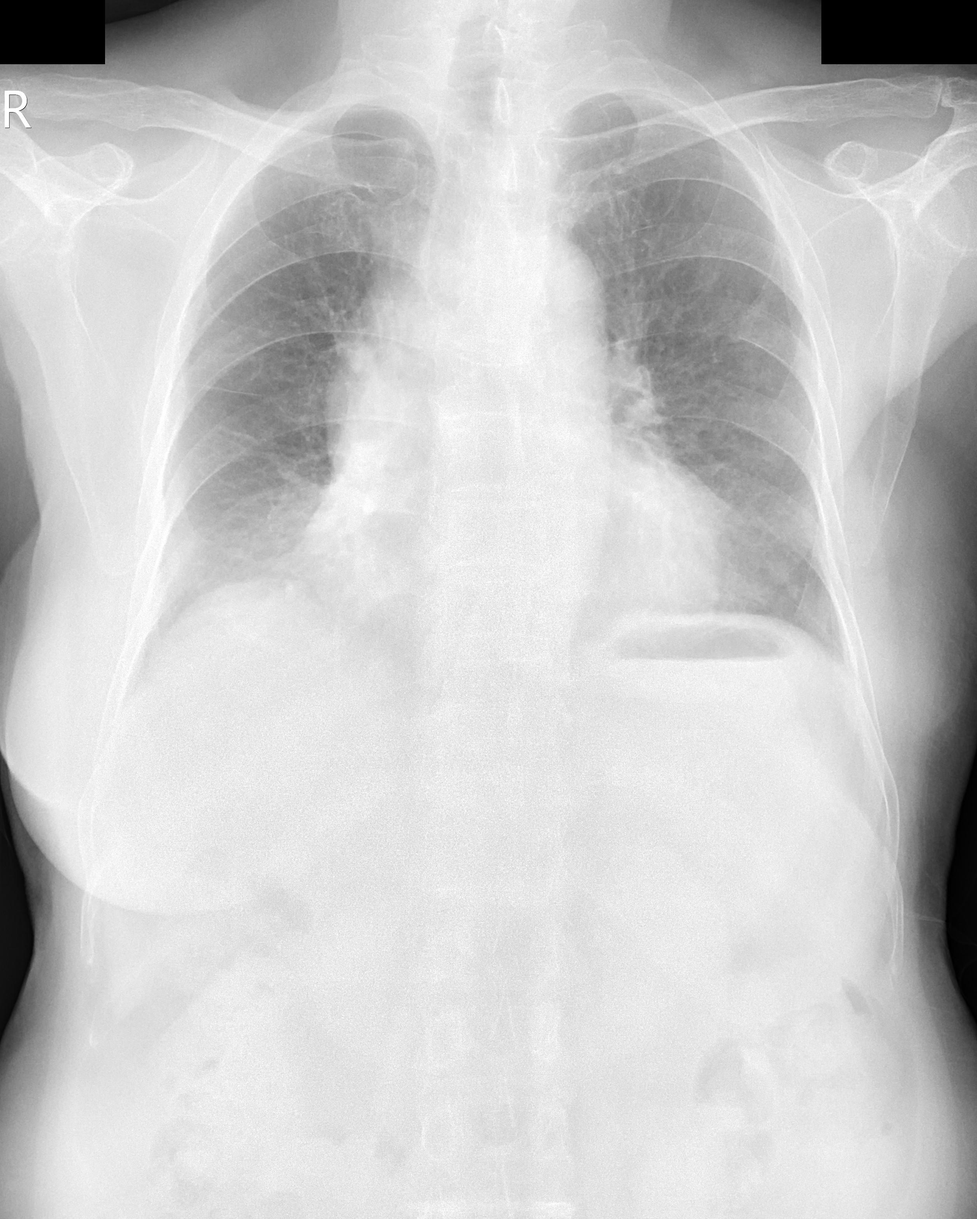Aortic enlargement: (338, 227, 607, 449)
Cardiomegaly: (283, 511, 739, 600)
